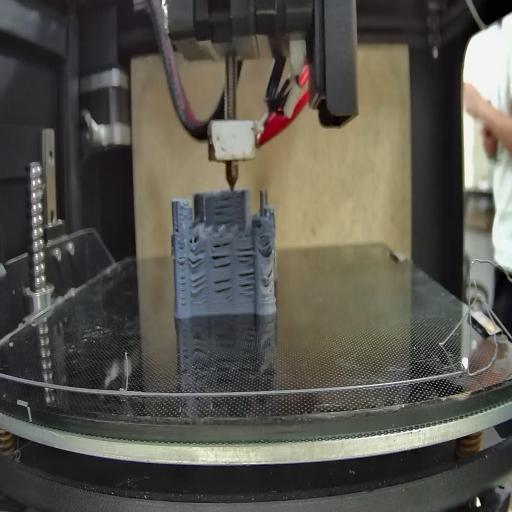cracks: (212, 194, 234, 226), (211, 240, 233, 268), (178, 244, 187, 310), (213, 276, 234, 302), (238, 272, 255, 298), (188, 246, 206, 270), (237, 244, 255, 266), (190, 274, 206, 297), (261, 240, 275, 255), (266, 264, 274, 278), (174, 219, 180, 234)
